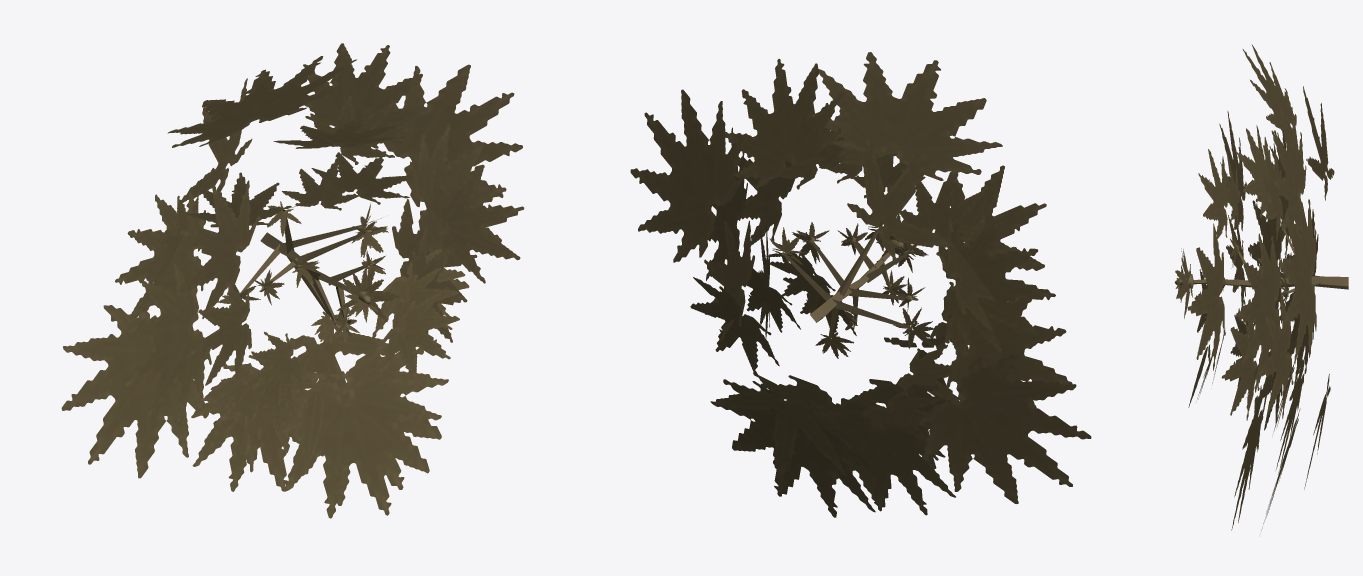
Rendered from p_haze_preflower_c4_cards.obj.
3 views of the same model, side by side, from view 1: azimuth 30°, elevation 25°; view 2: azimuth 150°, elevation 25°; view 3: azimuth 270°, elevation 25° (orthographic). The views are drawn at different scales.
Bounding box in the file's own units: 1.63 × 1.5 × 0.493.
1 material, 1 textured.
